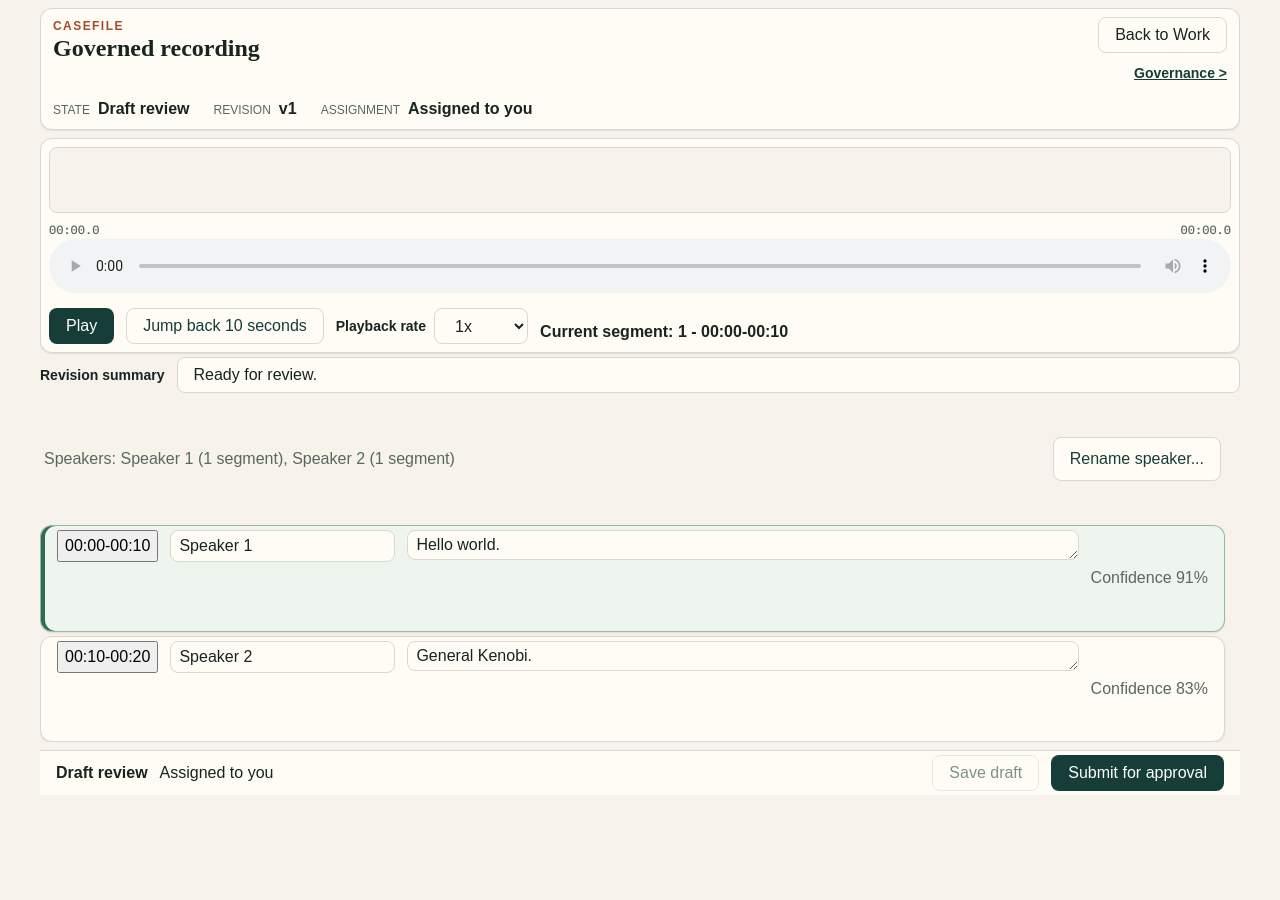
it: CasefileWorkspace › hides an open speaker rename dialog when phone safety begins
Click the button "Rename speaker..." at [1137, 459], box [1053,437,1221,481]
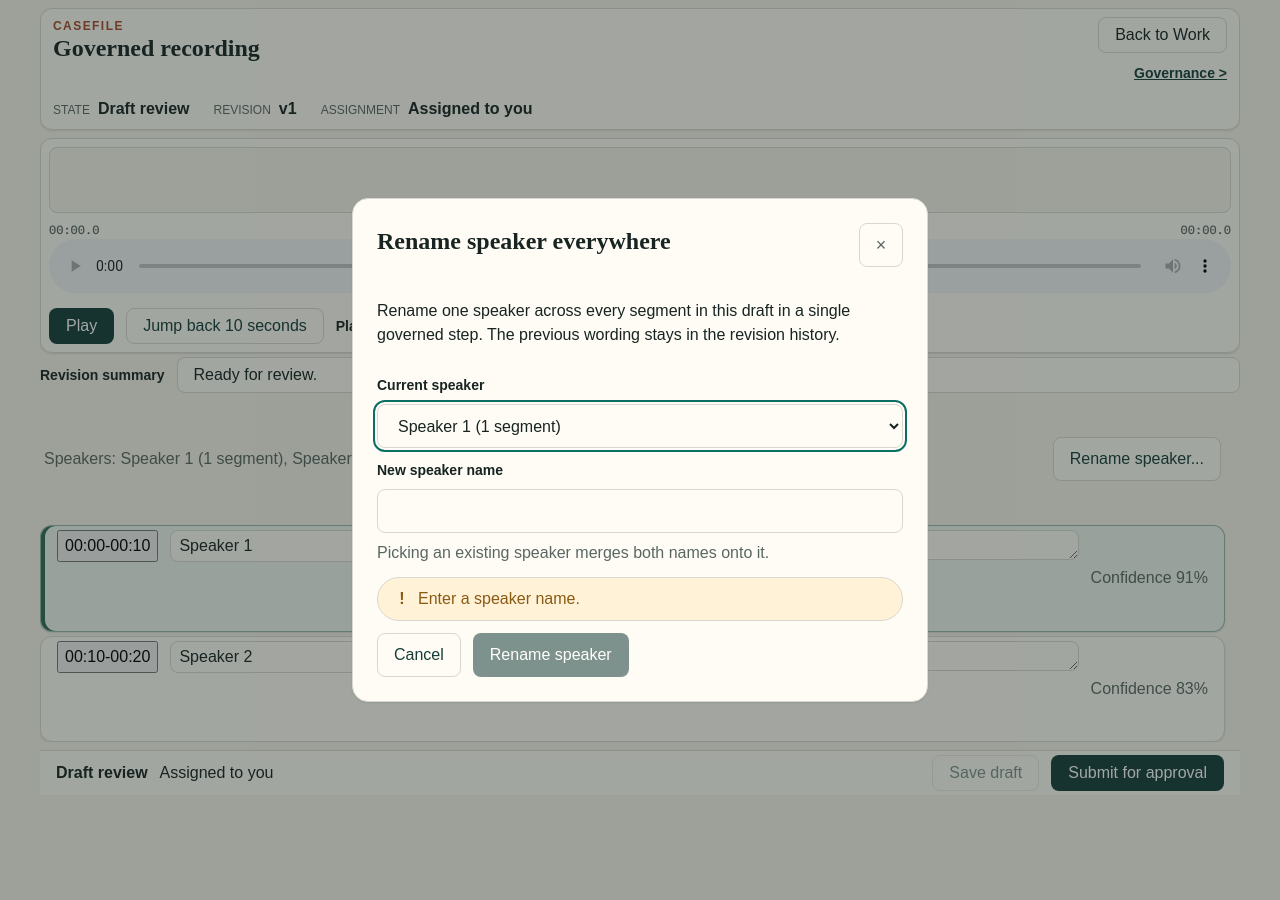
Expected: the dialog "Rename speaker everywhere" is shown, [352,198,928,702]
